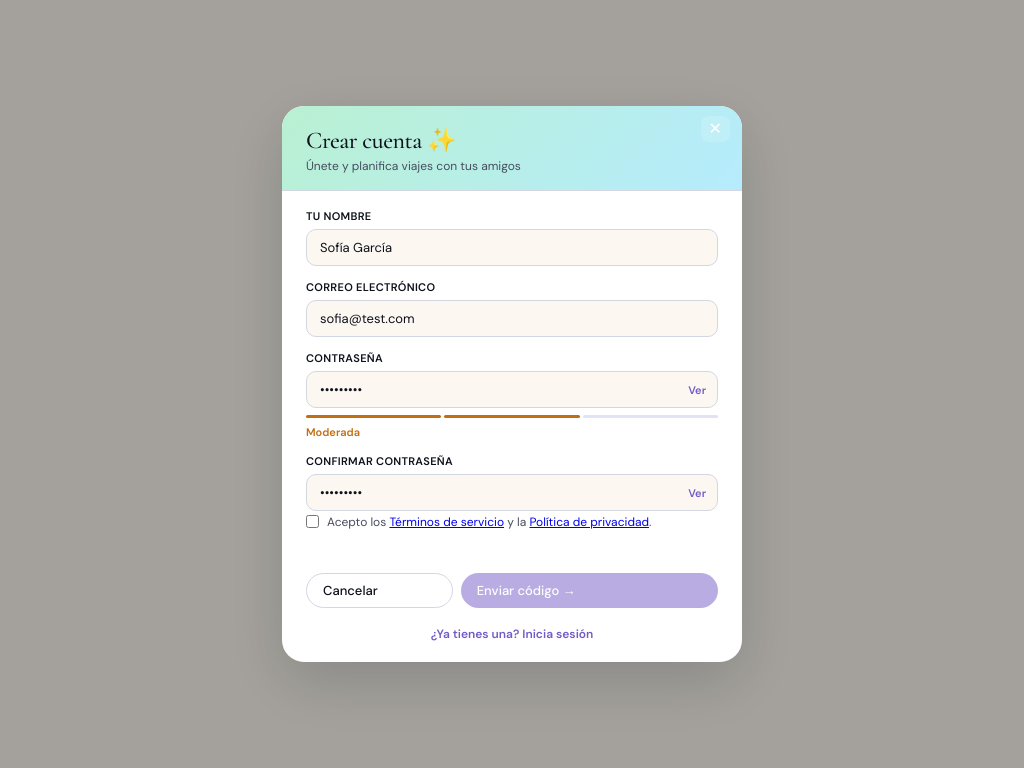
Test case: AuthModalComponent — accept Terms of Service before registering (2026-09-09 feedback round 2, item 1) › keeps "Enviar código →" disabled even with every other field valid until the checkbox is checked
This screenshot has width=1024, height=768.
Expected: the button "Enviar código →" is disabled, 461,573 -> 718,608
Click the checkbox: coordinates (312, 522) 306,515 -> 319,528
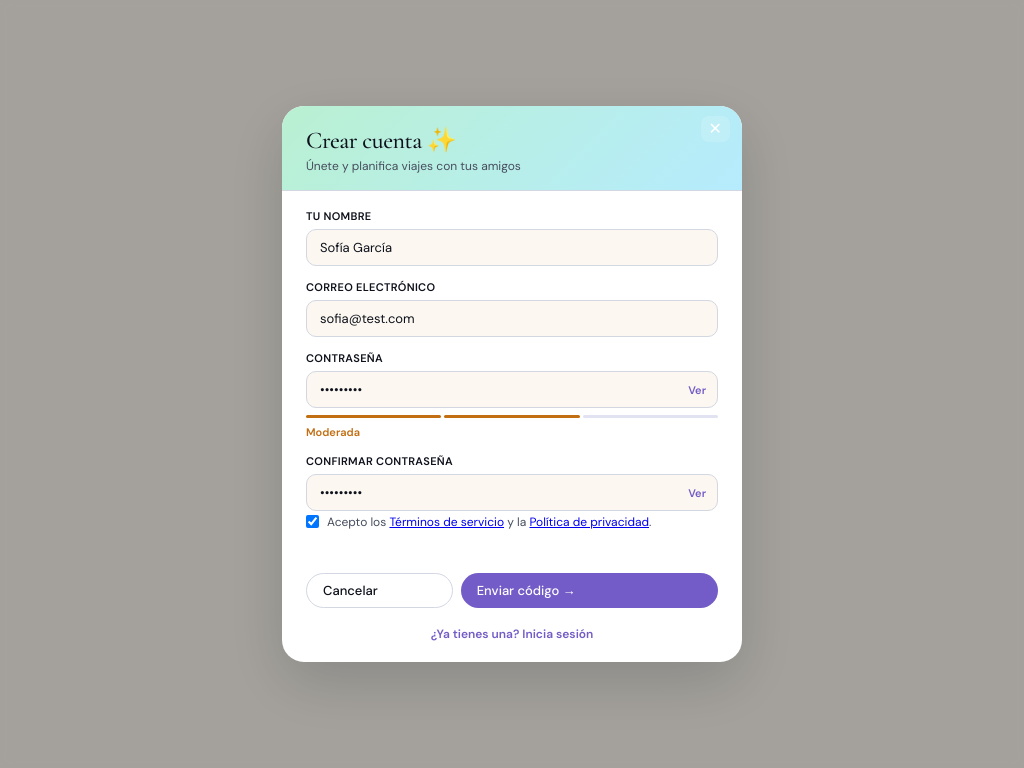
Expected: the button "Enviar código →" is enabled, 461,573 -> 718,608
